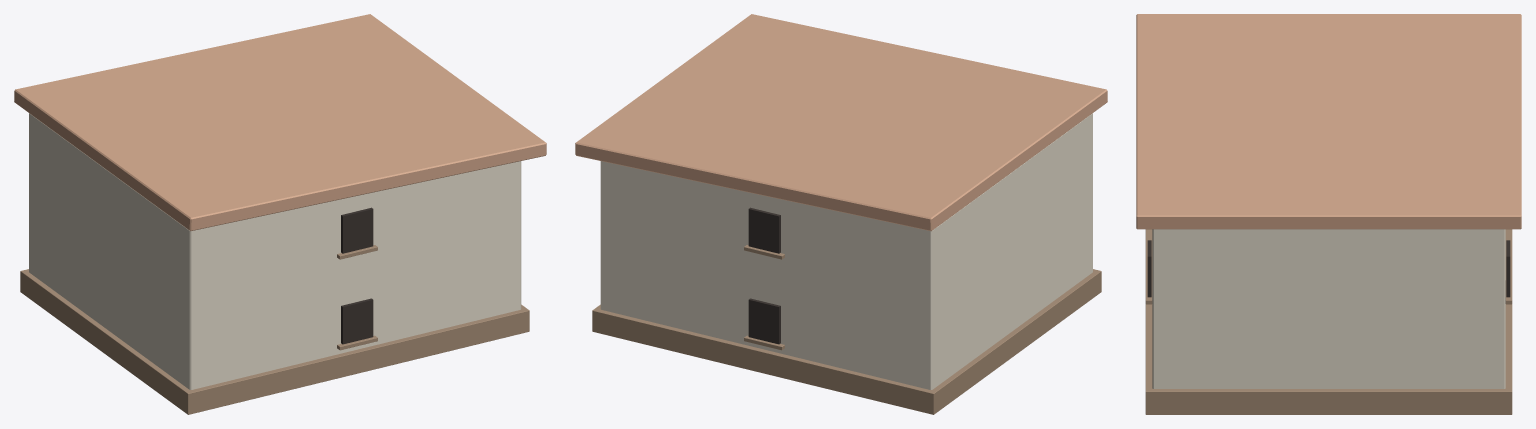
The model's file is fabric_b.glb.
3 views of the same model, side by side, from view 1: azimuth 30°, elevation 25°; view 2: azimuth 150°, elevation 25°; view 3: azimuth 270°, elevation 25° (orthographic). The views are drawn at different scales.
Parts seen in each view (by area): view 1: body, roof, merged_wood, merged_dark; view 2: body, roof, merged_wood, merged_dark; view 3: roof, body, merged_wood, merged_dark.
Part boxes in pixels (<box>): body: <box>29,113,521,389</box>; roof: <box>14,14,546,231</box>; merged_wood: <box>20,245,529,414</box>; merged_dark: <box>341,207,373,344</box>; body: <box>600,113,1092,389</box>; roof: <box>575,14,1107,231</box>; merged_wood: <box>592,245,1101,414</box>; merged_dark: <box>748,207,780,344</box>; roof: <box>1136,14,1521,229</box>; body: <box>1152,229,1505,388</box>; merged_wood: <box>1145,229,1512,414</box>; merged_dark: <box>1147,240,1510,297</box>.
Bounding box in the file's own units: 14.01 × 7.51 × 12.
